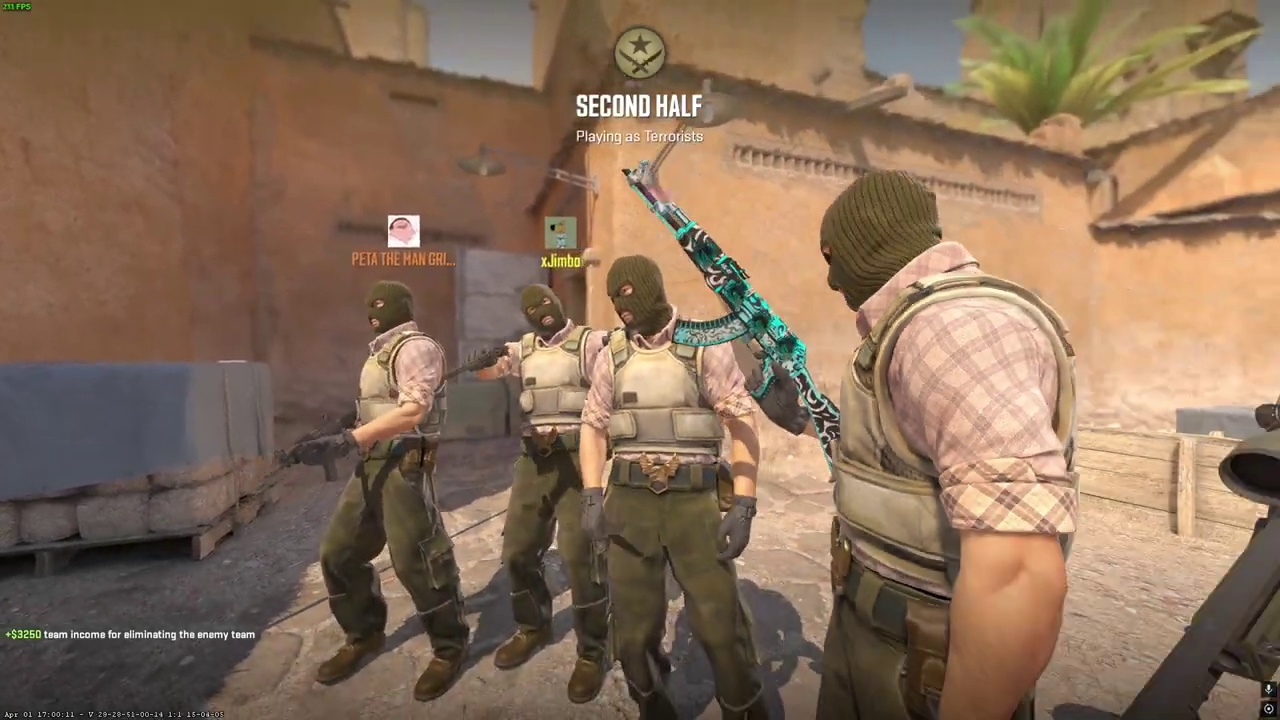Terrorist: (785, 170, 1078, 720), (580, 254, 767, 719), (314, 280, 471, 702), (478, 284, 610, 707)
